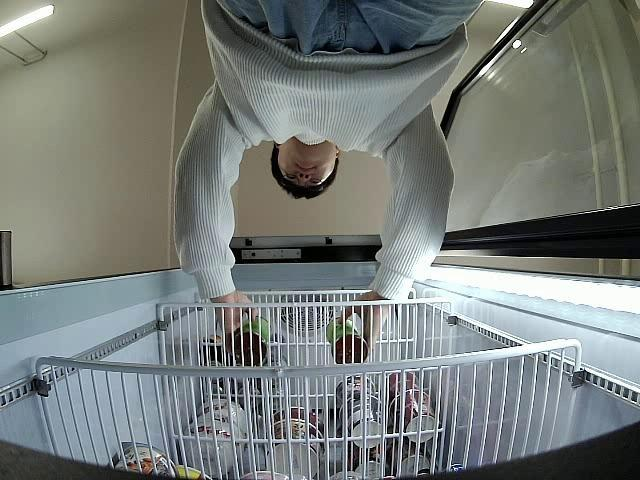19_17cha: (227, 314, 271, 368), (325, 315, 369, 364)
